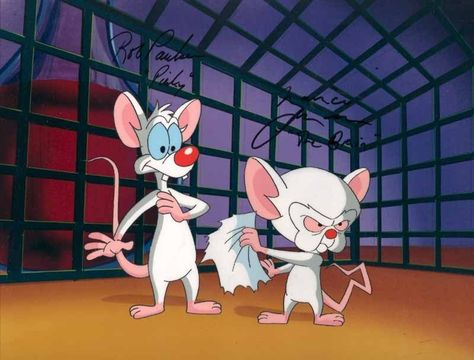cerebro: (235, 143, 381, 339)
pink: (80, 74, 222, 325)
